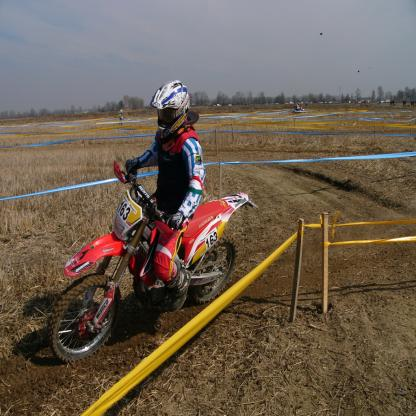Helmet: (151, 79, 192, 140)
